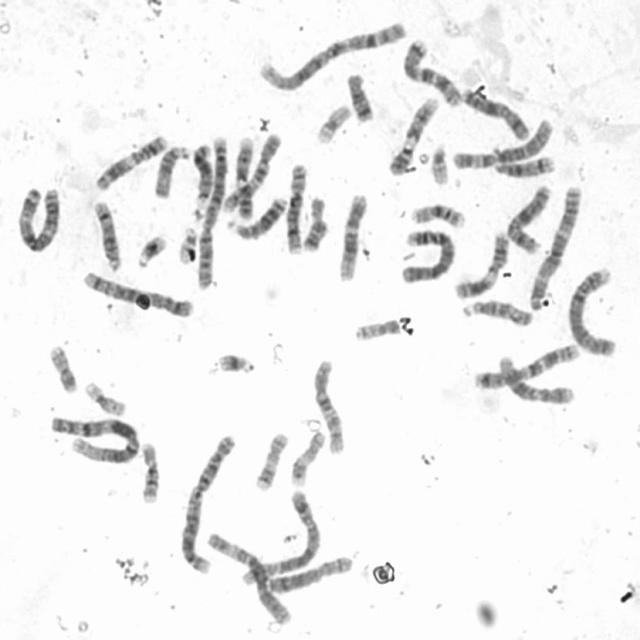A1: (253, 15, 408, 92), (45, 410, 142, 465)
A2: (178, 430, 240, 576), (192, 131, 230, 290)
A3: (525, 182, 584, 312), (12, 180, 64, 254)
B4: (565, 262, 619, 358), (397, 223, 458, 284)
B5: (238, 485, 323, 587), (77, 265, 196, 319)
C10: (220, 128, 284, 215), (308, 354, 348, 457)
C11: (90, 128, 172, 192), (450, 228, 510, 300)
C12: (495, 351, 577, 406), (334, 188, 370, 282)
C6: (203, 526, 294, 627), (448, 113, 556, 170)
C7: (471, 338, 582, 391), (399, 34, 465, 108)
C8: (262, 552, 354, 596), (284, 158, 310, 256)
C9: (385, 92, 442, 176), (230, 132, 257, 221)
D13: (226, 192, 290, 240), (189, 138, 215, 207)
D14: (90, 196, 124, 273), (491, 151, 557, 179)
D15: (458, 294, 536, 328), (150, 140, 191, 200)
E16: (407, 197, 468, 229), (137, 437, 163, 504)
E17: (251, 427, 290, 492), (288, 427, 328, 488)
E18: (342, 68, 376, 124), (298, 192, 329, 253)
F19: (79, 376, 129, 418), (312, 99, 353, 145)
F20: (45, 339, 79, 394), (350, 314, 403, 342)
G21: (132, 228, 170, 270), (212, 347, 258, 376)
G22: (174, 221, 200, 265), (427, 140, 451, 187)
X: (456, 82, 531, 141), (502, 180, 554, 255)
